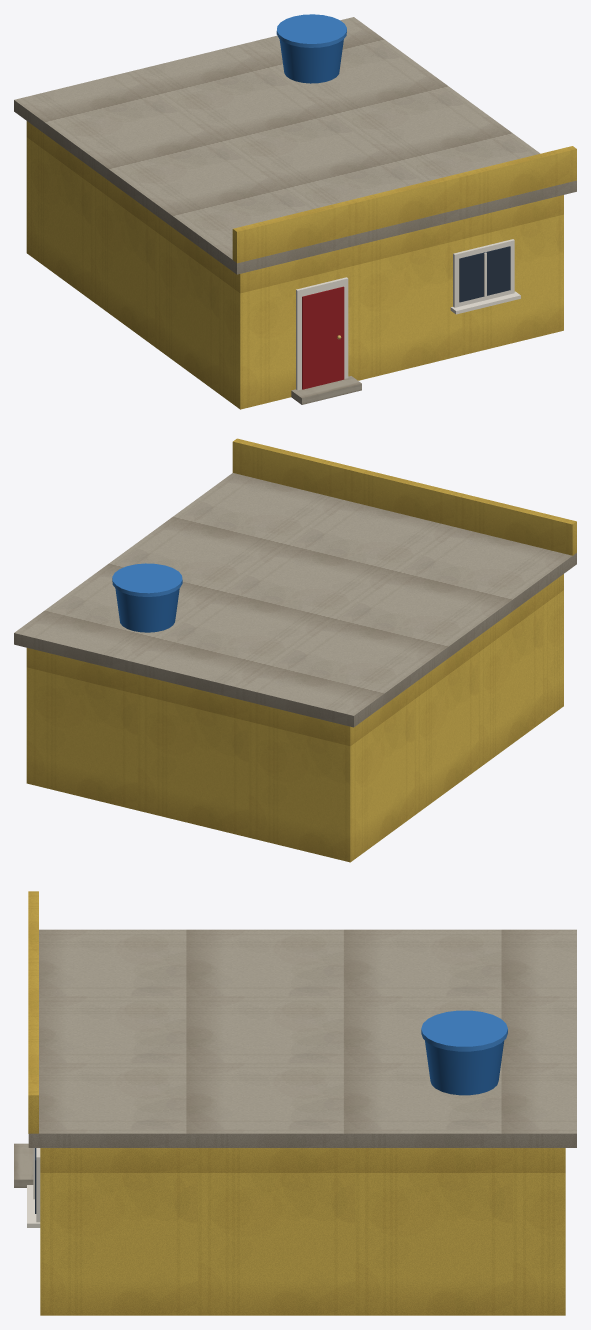
Rendered from casa-reboco-1-andar.glb.
3 views of the same model, one above another, from view 1: azimuth 30°, elevation 25°; view 2: azimuth 150°, elevation 25°; view 3: azimuth 270°, elevation 25° (orthographic). The views are drawn at different scales.
Visible parts, largest first — view 1: casa-reboco-1-andar; view 2: casa-reboco-1-andar; view 3: casa-reboco-1-andar.
Part boxes in pixels (left/top/right/bottom): casa-reboco-1-andar: left=14, top=14, right=576, bottom=409; casa-reboco-1-andar: left=14, top=438, right=576, bottom=862; casa-reboco-1-andar: left=14, top=891, right=576, bottom=1315.
Size of the model in its own units: 7.35 by 4.02 by 8.58.
8 materials, 2 textured.
